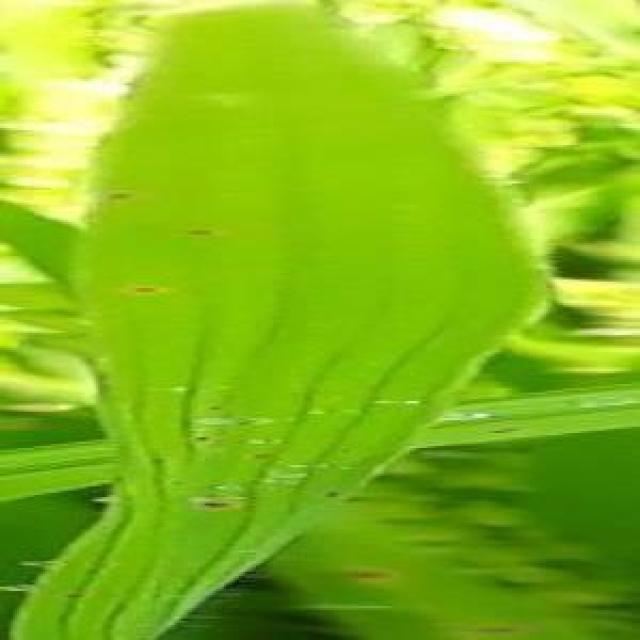Brown_Spot: (188, 212, 224, 248), (203, 492, 235, 521), (97, 189, 138, 204), (127, 286, 174, 298), (196, 434, 214, 448)
